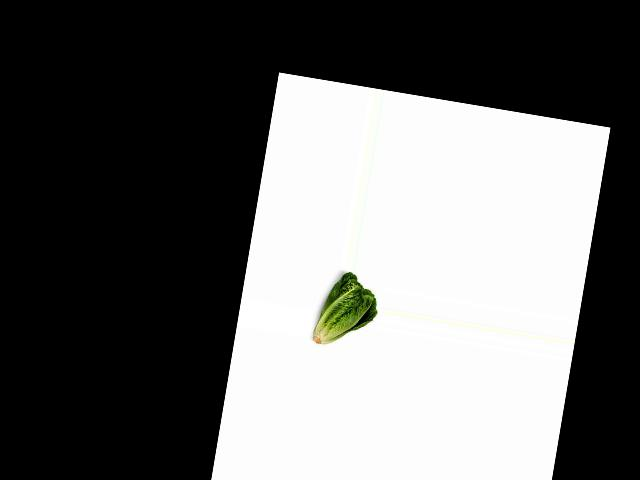lettuce: (310, 268, 382, 353)
